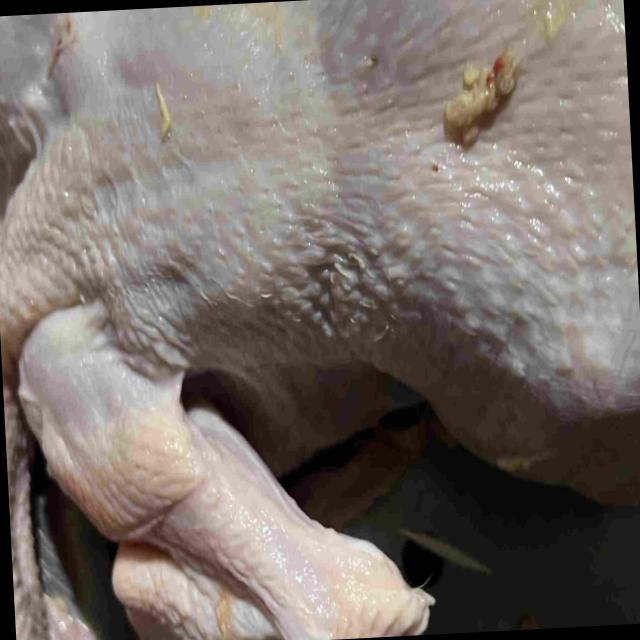back: (73, 0, 640, 424)
neck: (0, 116, 89, 640)
wing: (21, 304, 433, 640)
